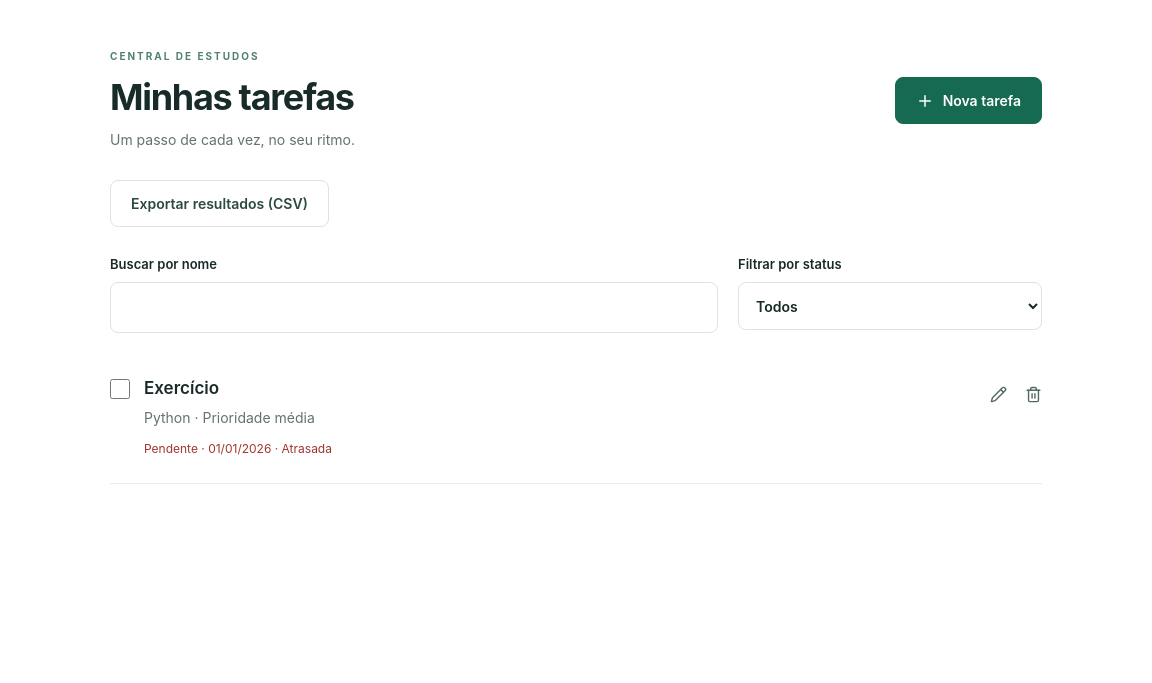
Test: keeps the form and shows an error when saving fails
Step 1. Click the button "Nova tarefa" → (968, 101), box [895,77,1042,124]
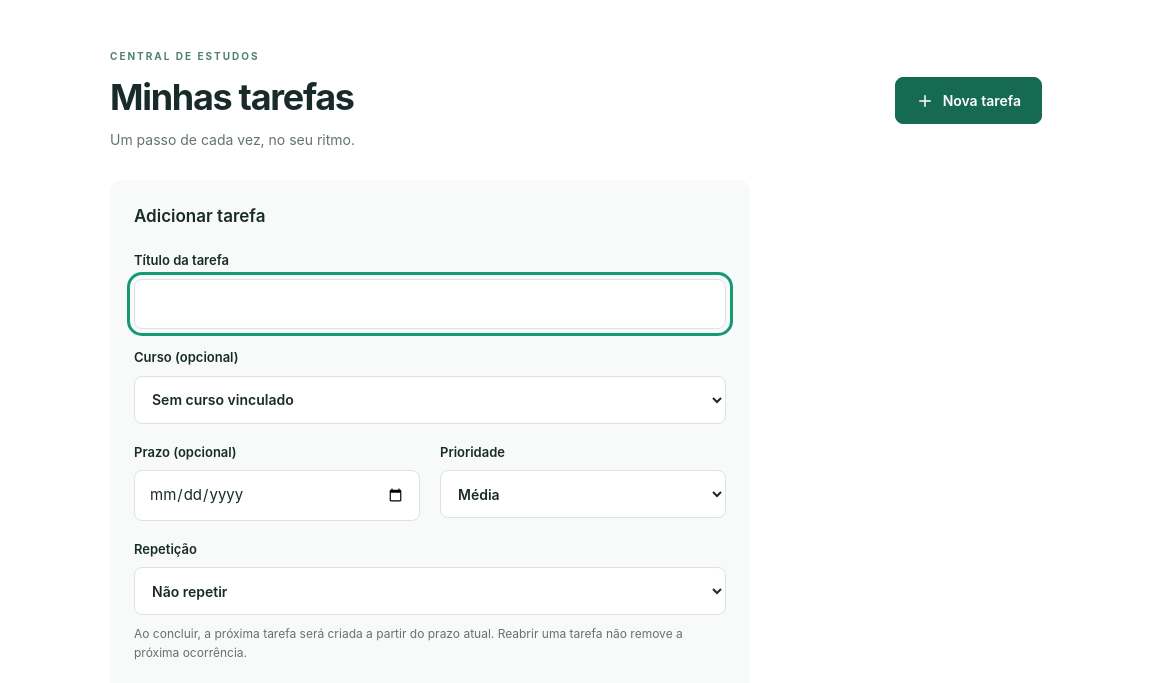
Step 2. Type "Estudar" into the field labelled "Título da tarefa" → (430, 304), box [134,279,726,329]
(page scrolled)
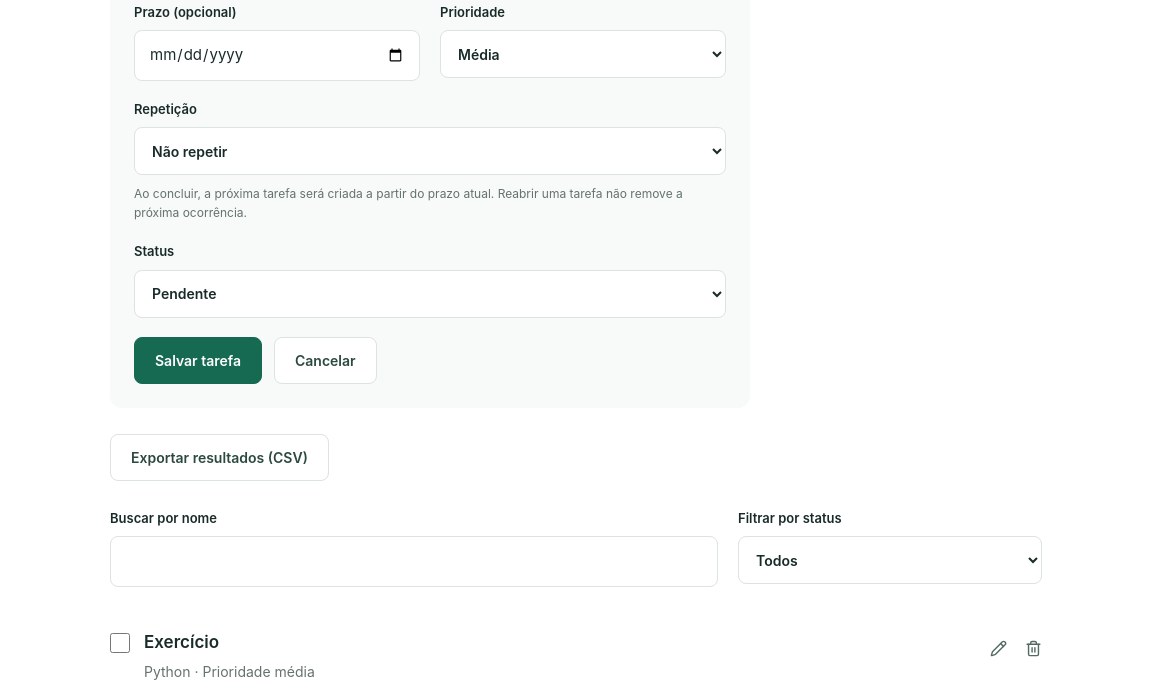
Step 3. Click the button "Salvar tarefa" → (198, 360), box [134,337,262,384]
(page scrolled)
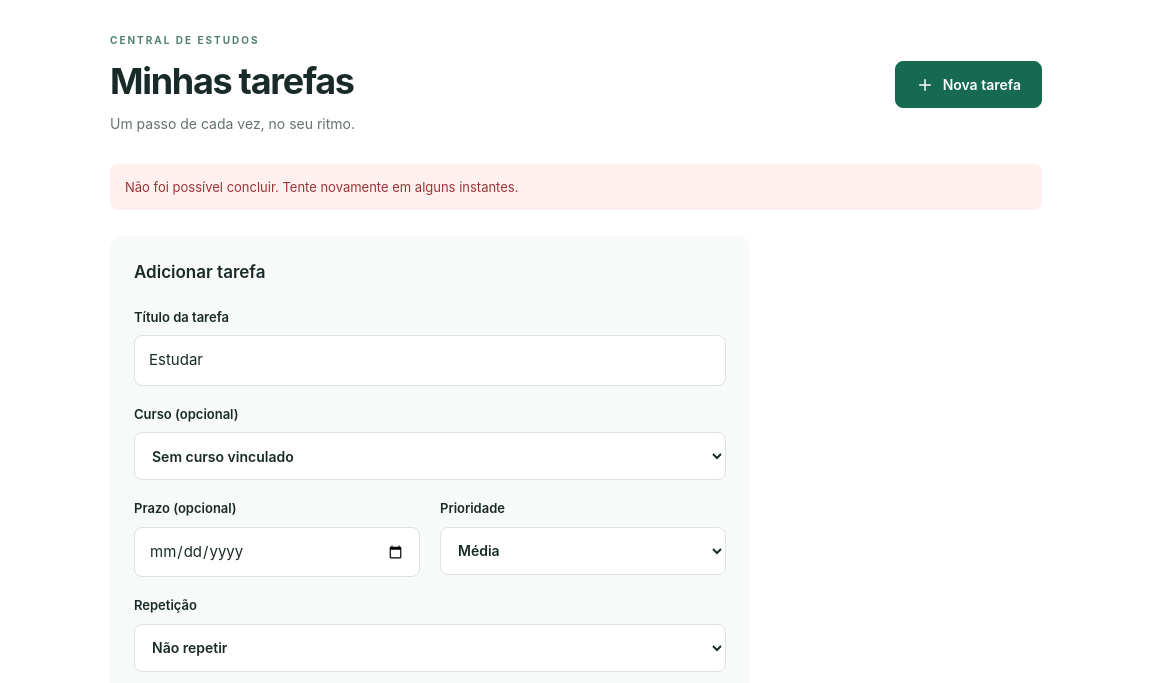
Now the message shows "Não foi possível", box [125,179,518,195]
